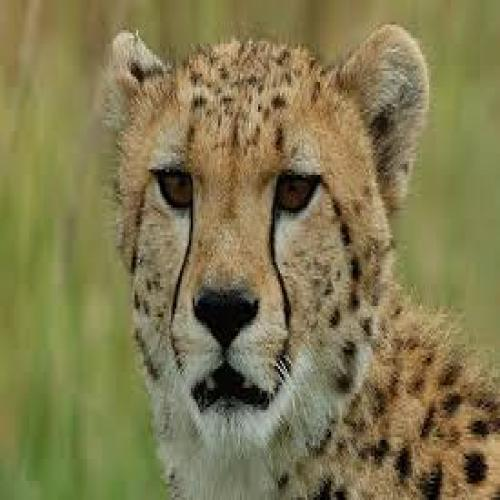cheetah-endangered: (109, 30, 500, 500)
